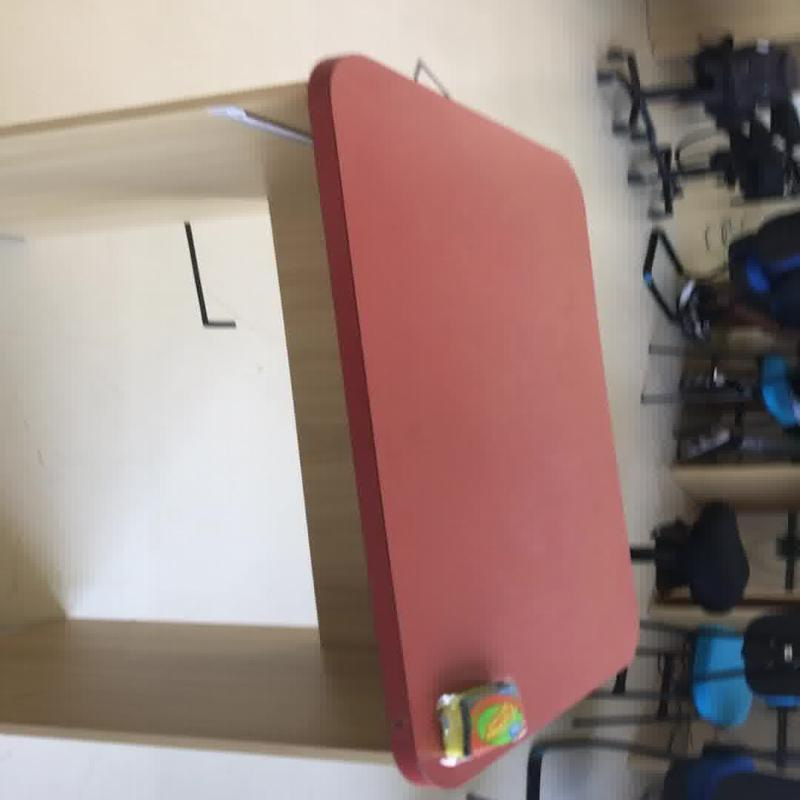sponge: (304, 53, 640, 786), (434, 678, 526, 764)
